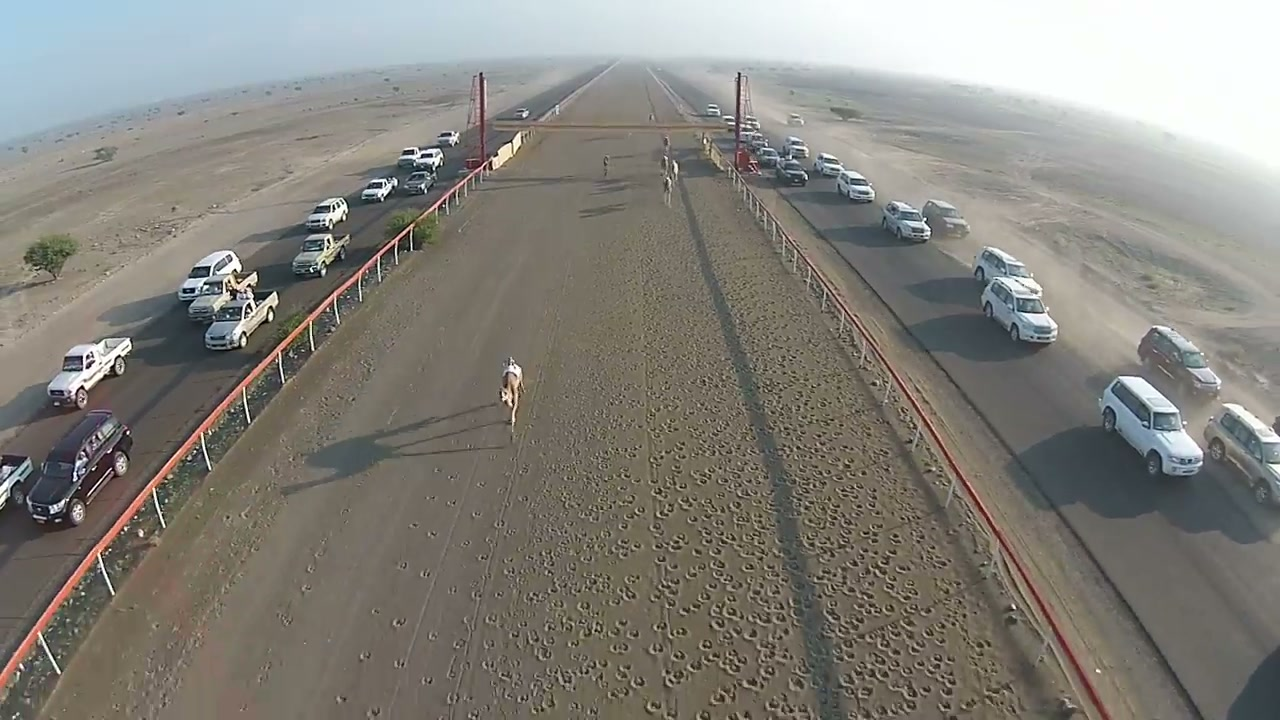animal_footprint: (479, 242, 1002, 719), (351, 438, 508, 719)
